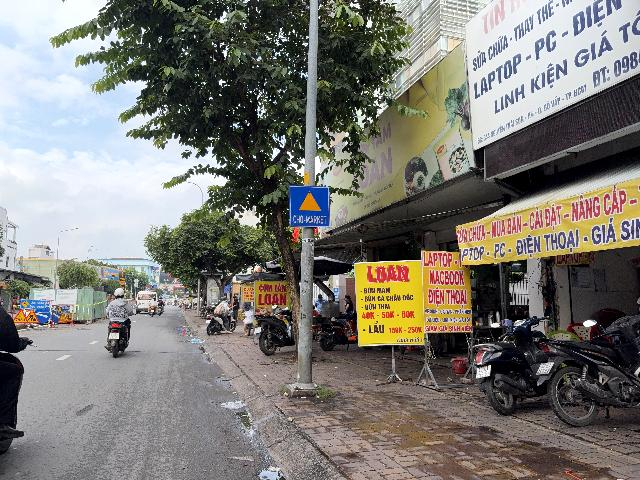khu-vuc-cho-phia-truoc: (288, 185, 331, 228)
